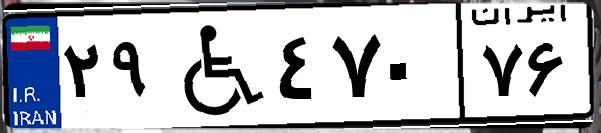0: (385, 28, 445, 110)
2: (57, 26, 110, 100)
4: (270, 28, 330, 110)
6: (525, 38, 570, 115)
7: (330, 28, 385, 110), (475, 38, 525, 113)
9: (110, 28, 158, 98)
ژ (معلولین و جانبازان): (158, 12, 270, 120)
